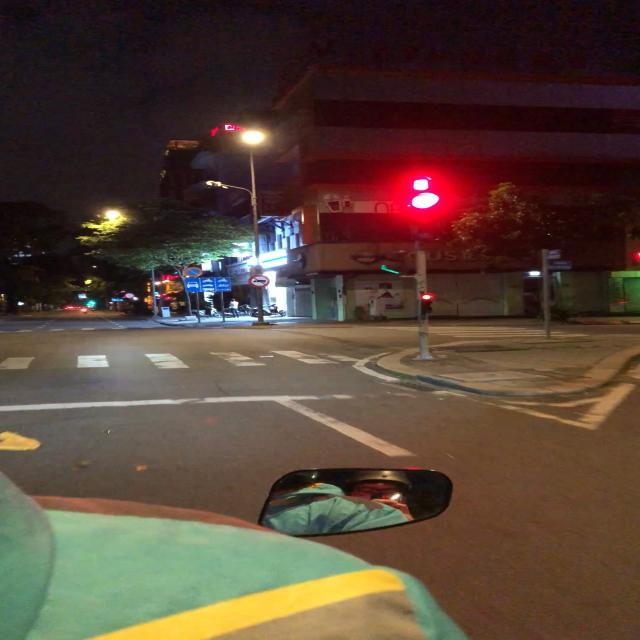Bien bao cam do xe: (183, 266, 205, 278)
Bien bao cam xe so-mi ro-mooc: (248, 274, 272, 288)
